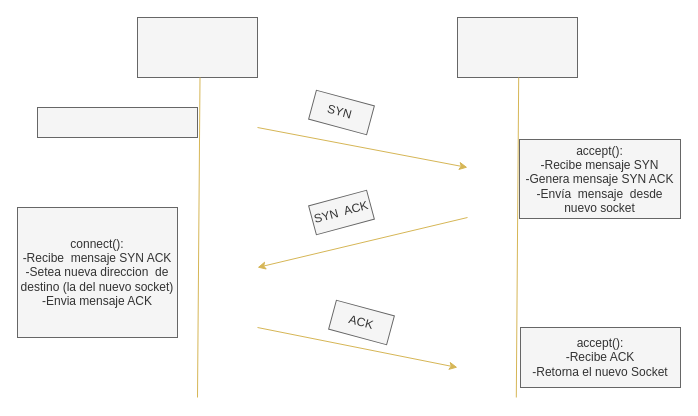
Some shapes in this 698 by 416 pixel diagram are drawn without their labels. Each missing label, with the box of its shape:
Cliente: (136, 16, 258, 78)
connect(): -Genera mensaje SYN: (36, 106, 198, 138)
Servidor: (456, 16, 578, 78)
